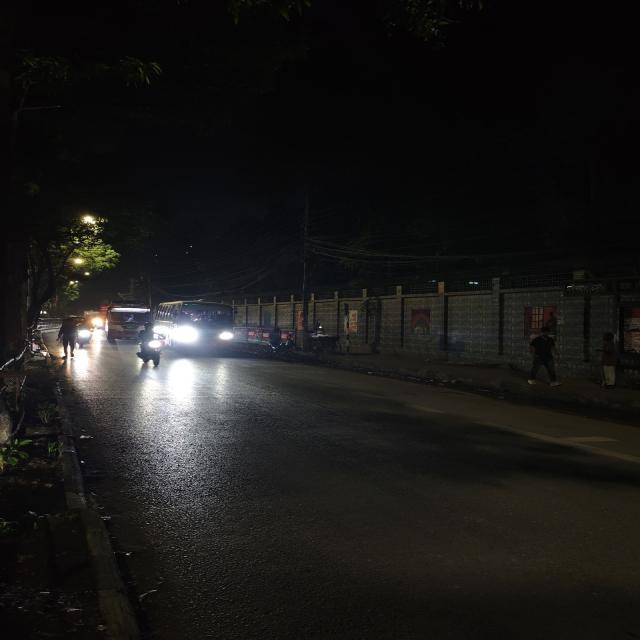bus: (157, 299, 237, 355), (99, 301, 153, 345)
motorcycle: (130, 324, 172, 372), (255, 332, 302, 363)
pedestrian: (522, 326, 566, 389), (592, 329, 624, 389), (54, 313, 83, 358)
